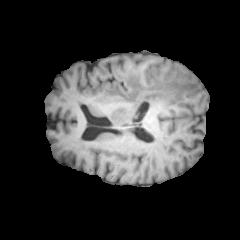glioma: (104, 65, 199, 124)
